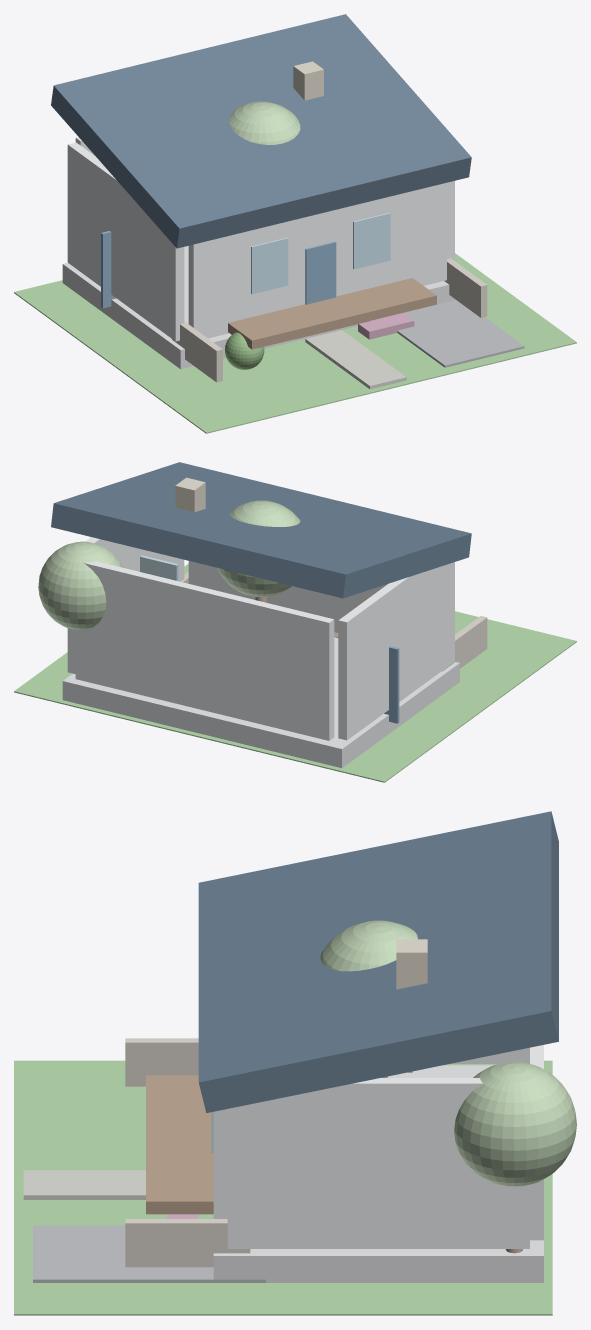
The model's file is BUILDING_HOUSE_COASTAL_COTTAGE_001_LOD_CLOSE.glb.
3 views of the same model, one above another, from view 1: azimuth 30°, elevation 25°; view 2: azimuth 150°, elevation 25°; view 3: azimuth 270°, elevation 25° (orthographic). The views are drawn at different scales.
Parts seen in each view (by area): view 1: BUILDING_HOUSE_COASTAL_COTTAGE_001_CLOSE_ROOF, BUILDING_HOUSE_COASTAL_COTTAGE_001_CLOSE_GROUND, BUILDING_HOUSE_COASTAL_COTTAGE_001_CLOSE_WALL_FRONT, BUILDING_HOUSE_COASTAL_COTTAGE_001_CLOSE_WALL_LEFT, BUILDING_HOUSE_COASTAL_COTTAGE_001_CLOSE_VERANDAH, BUILDING_HOUSE_COASTAL_COTTAGE_001_CLOSE_DRIVEWAY, BUILDING_HOUSE_COASTAL_COTTAGE_001_CLOSE_FOUNDATION, BUILDING_HOUSE_COASTAL_COTTAGE_001_CLOSE_PATH, MOD_TREE_EUCALYPTUS_STANDARD_001_CLOSE_CANOPY, BUILDING_HOUSE_COASTAL_COTTAGE_001_CLOSE_WINDOW_02, BUILDING_HOUSE_COASTAL_COTTAGE_001_CLOSE_WINDOW_01, BUILDING_HOUSE_COASTAL_COTTAGE_001_CLOSE_DOOR_FRONT (+7 smaller); view 2: BUILDING_HOUSE_COASTAL_COTTAGE_001_CLOSE_WALL_BACK, BUILDING_HOUSE_COASTAL_COTTAGE_001_CLOSE_ROOF, BUILDING_HOUSE_COASTAL_COTTAGE_001_CLOSE_GROUND, BUILDING_HOUSE_COASTAL_COTTAGE_001_CLOSE_WALL_LEFT, BUILDING_HOUSE_COASTAL_COTTAGE_001_CLOSE_FOUNDATION, BUILDING_HOUSE_COASTAL_COTTAGE_001_CLOSE_TREE_CANOPY, BUILDING_HOUSE_COASTAL_COTTAGE_001_CLOSE_WALL_FRONT, MOD_TREE_EUCALYPTUS_STANDARD_001_CLOSE_CANOPY, BUILDING_HOUSE_COASTAL_COTTAGE_001_CLOSE_WALL_RIGHT, BUILDING_HOUSE_COASTAL_COTTAGE_001_CLOSE_FENCE_01, BUILDING_HOUSE_COASTAL_COTTAGE_001_CLOSE_CHIMNEY, BUILDING_HOUSE_COASTAL_COTTAGE_001_CLOSE_DOOR_SERVICE (+1 smaller); view 3: BUILDING_HOUSE_COASTAL_COTTAGE_001_CLOSE_ROOF, BUILDING_HOUSE_COASTAL_COTTAGE_001_CLOSE_WALL_RIGHT, BUILDING_HOUSE_COASTAL_COTTAGE_001_CLOSE_GROUND, BUILDING_HOUSE_COASTAL_COTTAGE_001_CLOSE_FOUNDATION, BUILDING_HOUSE_COASTAL_COTTAGE_001_CLOSE_TREE_CANOPY, BUILDING_HOUSE_COASTAL_COTTAGE_001_CLOSE_VERANDAH, BUILDING_HOUSE_COASTAL_COTTAGE_001_CLOSE_DRIVEWAY, BUILDING_HOUSE_COASTAL_COTTAGE_001_CLOSE_FENCE_02, BUILDING_HOUSE_COASTAL_COTTAGE_001_CLOSE_PATH, MOD_TREE_EUCALYPTUS_STANDARD_001_CLOSE_CANOPY, BUILDING_HOUSE_COASTAL_COTTAGE_001_CLOSE_FENCE_01, BUILDING_HOUSE_COASTAL_COTTAGE_001_CLOSE_WALL_FRONT (+3 smaller).
Part boxes in pixels (x1,y1,x2,y2): BUILDING_HOUSE_COASTAL_COTTAGE_001_CLOSE_ROOF: (51, 14, 471, 248); BUILDING_HOUSE_COASTAL_COTTAGE_001_CLOSE_GROUND: (14, 253, 576, 433); BUILDING_HOUSE_COASTAL_COTTAGE_001_CLOSE_WALL_FRONT: (188, 182, 446, 338); BUILDING_HOUSE_COASTAL_COTTAGE_001_CLOSE_WALL_LEFT: (67, 142, 184, 341); BUILDING_HOUSE_COASTAL_COTTAGE_001_CLOSE_VERANDAH: (228, 278, 436, 349); BUILDING_HOUSE_COASTAL_COTTAGE_001_CLOSE_DRIVEWAY: (397, 300, 524, 367); BUILDING_HOUSE_COASTAL_COTTAGE_001_CLOSE_FOUNDATION: (62, 246, 455, 369); BUILDING_HOUSE_COASTAL_COTTAGE_001_CLOSE_PATH: (305, 330, 406, 389); MOD_TREE_EUCALYPTUS_STANDARD_001_CLOSE_CANOPY: (229, 101, 300, 144); BUILDING_HOUSE_COASTAL_COTTAGE_001_CLOSE_WINDOW_02: (353, 212, 390, 269); BUILDING_HOUSE_COASTAL_COTTAGE_001_CLOSE_WINDOW_01: (251, 237, 288, 294); BUILDING_HOUSE_COASTAL_COTTAGE_001_CLOSE_DOOR_FRONT: (305, 241, 336, 304); BUILDING_HOUSE_COASTAL_COTTAGE_001_CLOSE_WALL_BACK: (75, 561, 334, 740); BUILDING_HOUSE_COASTAL_COTTAGE_001_CLOSE_ROOF: (51, 462, 471, 598); BUILDING_HOUSE_COASTAL_COTTAGE_001_CLOSE_GROUND: (14, 563, 576, 782); BUILDING_HOUSE_COASTAL_COTTAGE_001_CLOSE_WALL_LEFT: (338, 562, 454, 740); BUILDING_HOUSE_COASTAL_COTTAGE_001_CLOSE_FOUNDATION: (62, 637, 459, 768); BUILDING_HOUSE_COASTAL_COTTAGE_001_CLOSE_TREE_CANOPY: (38, 541, 123, 630); BUILDING_HOUSE_COASTAL_COTTAGE_001_CLOSE_WALL_FRONT: (188, 561, 387, 632); MOD_TREE_EUCALYPTUS_STANDARD_001_CLOSE_CANOPY: (217, 500, 300, 597); BUILDING_HOUSE_COASTAL_COTTAGE_001_CLOSE_WALL_RIGHT: (67, 537, 184, 674); BUILDING_HOUSE_COASTAL_COTTAGE_001_CLOSE_FENCE_01: (442, 616, 487, 671); BUILDING_HOUSE_COASTAL_COTTAGE_001_CLOSE_CHIMNEY: (175, 477, 205, 512); BUILDING_HOUSE_COASTAL_COTTAGE_001_CLOSE_DOOR_SERVICE: (384, 646, 399, 723); BUILDING_HOUSE_COASTAL_COTTAGE_001_CLOSE_ROOF: (198, 811, 558, 1112); BUILDING_HOUSE_COASTAL_COTTAGE_001_CLOSE_WALL_RIGHT: (227, 1078, 529, 1248); BUILDING_HOUSE_COASTAL_COTTAGE_001_CLOSE_GROUND: (14, 1060, 552, 1315); BUILDING_HOUSE_COASTAL_COTTAGE_001_CLOSE_FOUNDATION: (213, 1065, 543, 1282); BUILDING_HOUSE_COASTAL_COTTAGE_001_CLOSE_TREE_CANOPY: (454, 1062, 576, 1186); BUILDING_HOUSE_COASTAL_COTTAGE_001_CLOSE_VERANDAH: (146, 1075, 213, 1214); BUILDING_HOUSE_COASTAL_COTTAGE_001_CLOSE_DRIVEWAY: (33, 1225, 265, 1282); BUILDING_HOUSE_COASTAL_COTTAGE_001_CLOSE_FENCE_02: (125, 1219, 250, 1267); BUILDING_HOUSE_COASTAL_COTTAGE_001_CLOSE_PATH: (23, 1170, 145, 1199); MOD_TREE_EUCALYPTUS_STANDARD_001_CLOSE_CANOPY: (320, 920, 417, 971); BUILDING_HOUSE_COASTAL_COTTAGE_001_CLOSE_FENCE_01: (125, 1038, 198, 1086); BUILDING_HOUSE_COASTAL_COTTAGE_001_CLOSE_WALL_FRONT: (213, 1109, 227, 1218).
Size of the model in its own units: 6.9 by 3.64 by 6.48.
